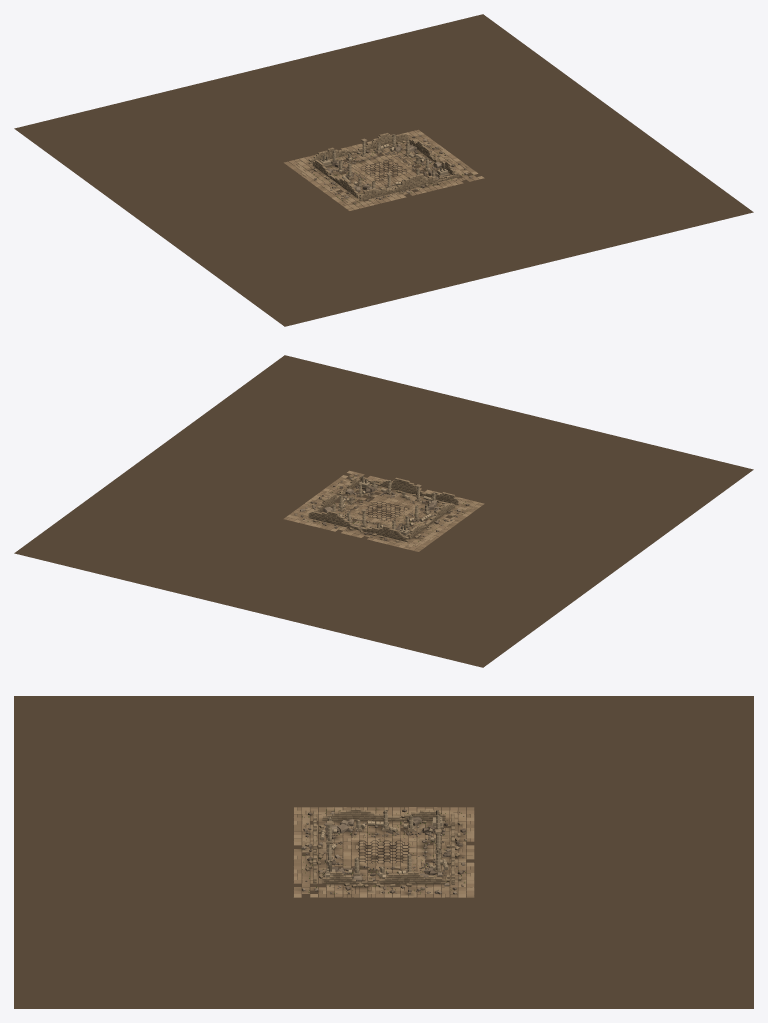
File: ruins.glb
3 renders of one model, top to bottom at view 1: azimuth 30°, elevation 25°; view 2: azimuth 150°, elevation 25°; view 3: azimuth 270°, elevation 25°, orthographic. The views are drawn at different scales.
Visible parts, largest first — view 1: ruins; view 2: ruins; view 3: ruins.
Part boxes in pixels (left/top/right/bottom): ruins: left=14, top=14, right=753, bottom=326; ruins: left=14, top=355, right=753, bottom=667; ruins: left=14, top=696, right=753, bottom=1008.
Bounding box in the file's own units: 180 × 6.35 × 180.
